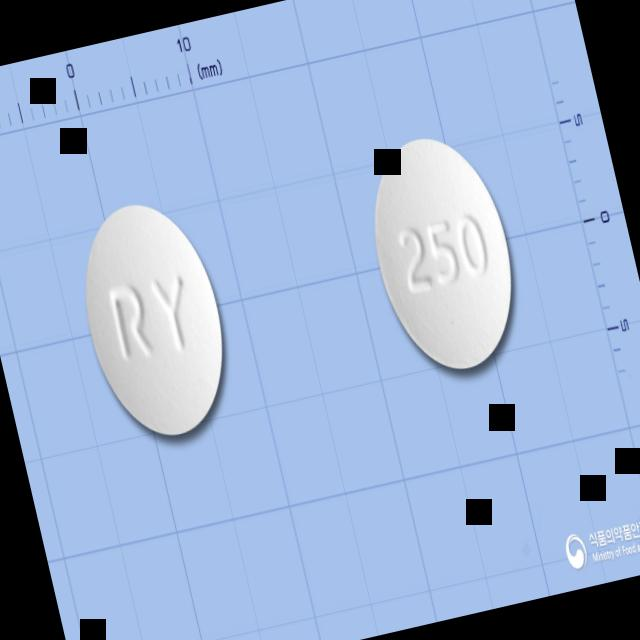Azaprine -25mg: (62, 187, 244, 449), (353, 124, 532, 384)
